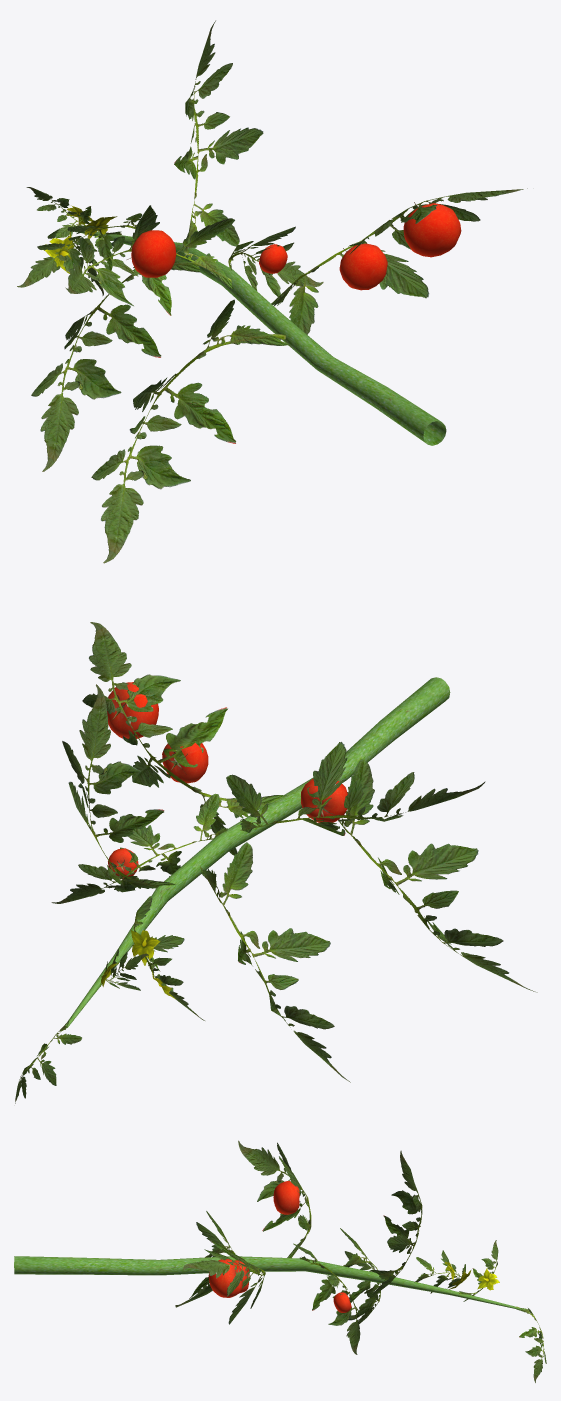
Rendered from Tomato.fbx.
The picture shows the model from 3 angles, top to bottom: view 1: azimuth 30°, elevation 25°; view 2: azimuth 150°, elevation 25°; view 3: azimuth 270°, elevation 25°; orthographic projection. The views are drawn at different scales.
Parts seen in each view (by area): view 1: Empty; view 2: Empty; view 3: Empty.
Part boxes in pixels (x1,y1,x2,y2): Empty: [17, 20, 527, 563]; Empty: [15, 622, 537, 1103]; Empty: [14, 1140, 546, 1382].
Size of the model in its own units: 111 by 94.25 by 167.
Materials: 1 (1 with a texture image).
